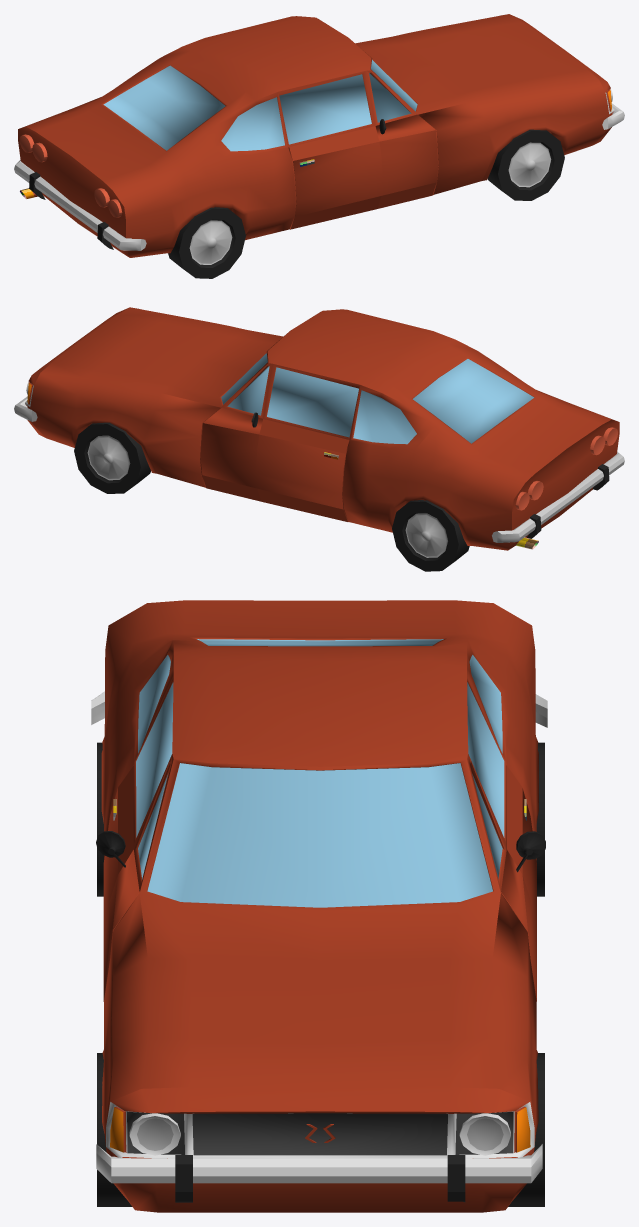
The model's file is safira.glb.
The picture shows the model from 3 angles, top to bottom: view 1: azimuth 30°, elevation 25°; view 2: azimuth 150°, elevation 25°; view 3: azimuth 270°, elevation 25°; orthographic projection. The views are drawn at different scales.
Visible parts, largest first — view 1: Body; view 2: Body; view 3: Body.
Part boxes in pixels (x1,y1,x2,y2): Body: (14,14,624,278); Body: (14,307,624,571); Body: (91,600,547,1212).
Size of the model in its own units: 4.57 by 1.34 by 1.77.
Materials: 3 (3 with a texture image).
